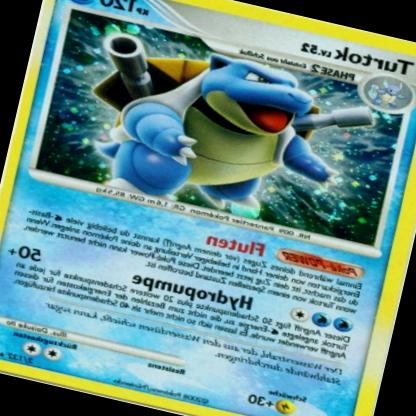Blastoise: (85, 32, 359, 238)
